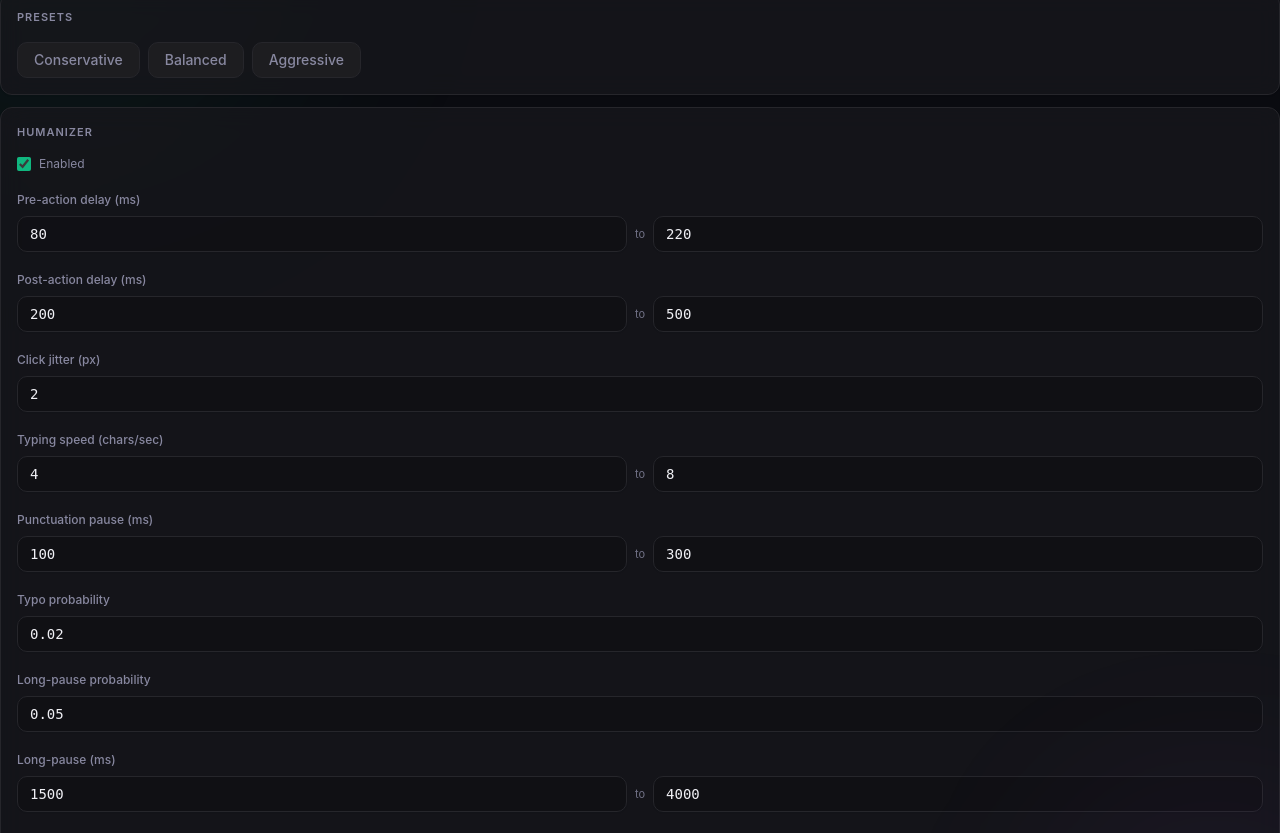
it: AntiDetectionSettings — presets & validation › Conservative preset sets rateLimiter.globalPerHour to 15
Click the button with test id "policy-preset-conservative". click: [78, 60]
box: [17,42,140,78]
(page scrolled)
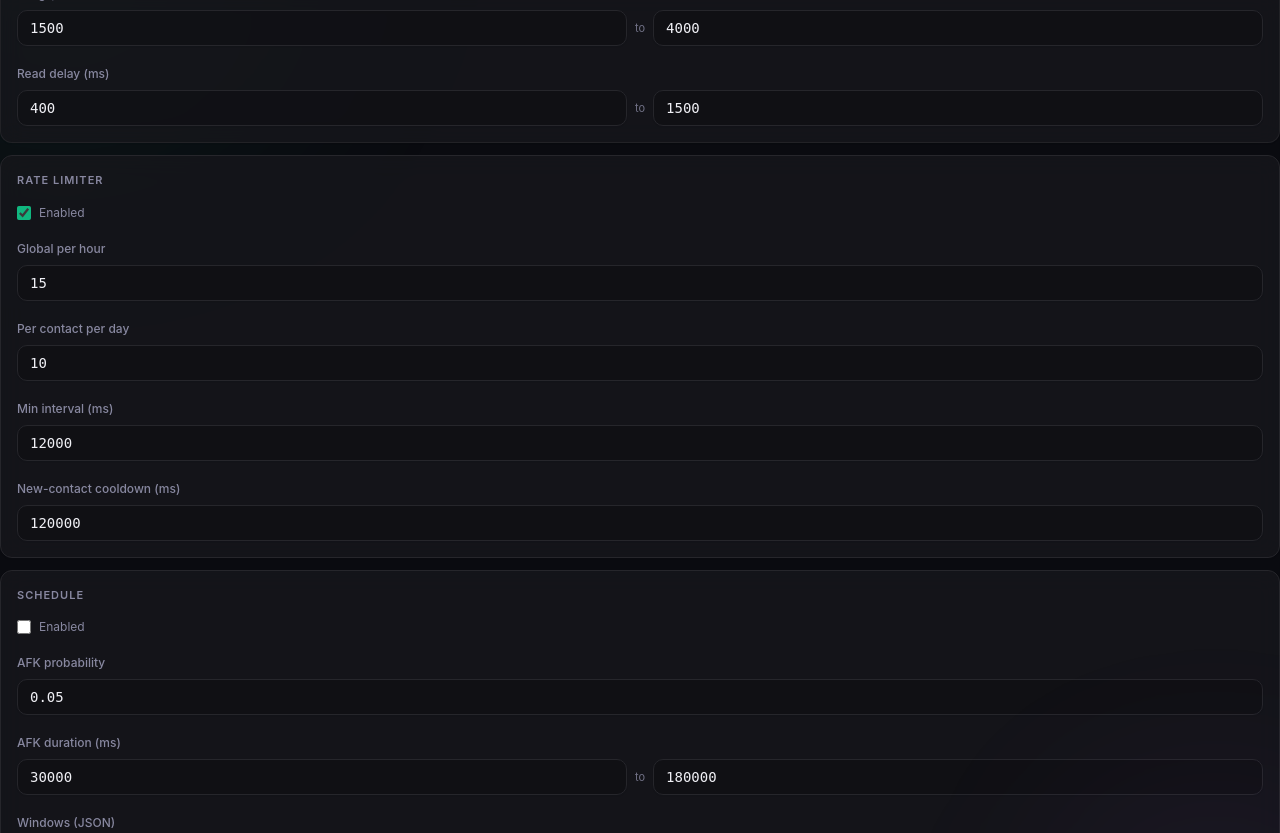
Result: the number field with test id "rl-global" holds "15" at [17,264,1263,300]
Result: the number field with test id "rl-min-interval" holds "12000" at [17,424,1263,460]
